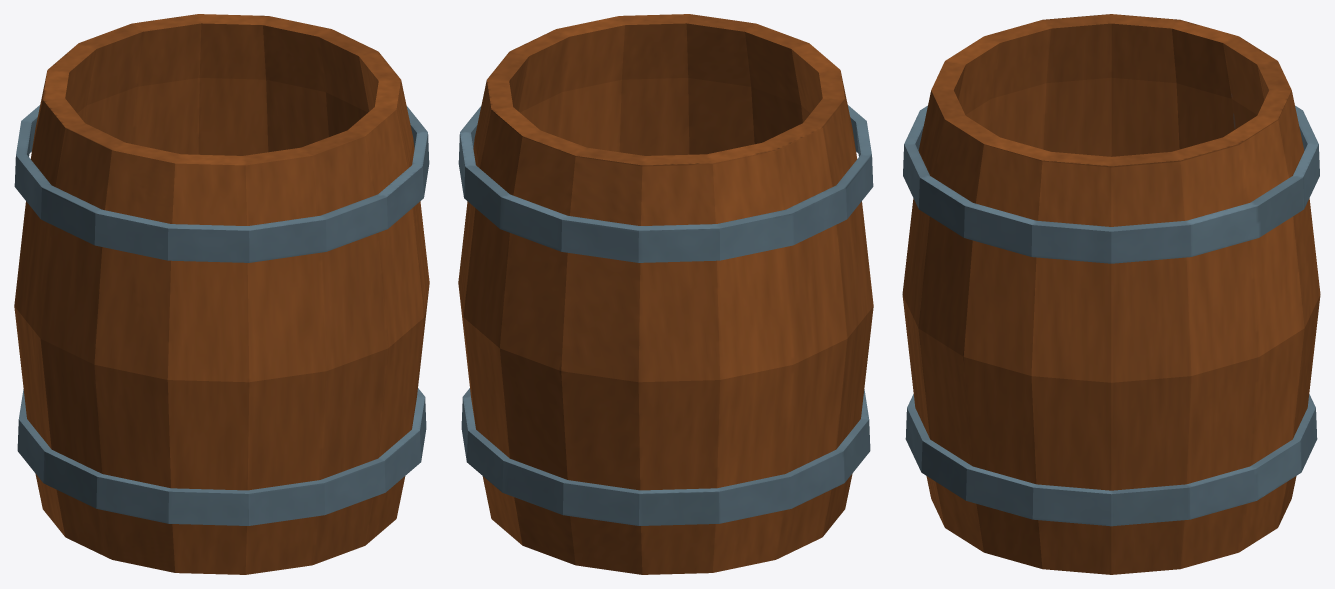
The model's file is TX_D07_Barrel_Open.fbx.
The picture shows the model from 3 angles, left to right: view 1: azimuth 30°, elevation 25°; view 2: azimuth 150°, elevation 25°; view 3: azimuth 270°, elevation 25°; orthographic projection.
Visible parts, largest first — view 1: TX_D07_Barrel_Open; view 2: TX_D07_Barrel_Open; view 3: TX_D07_Barrel_Open.
Part boxes in pixels (x1,y1,x2,y2): TX_D07_Barrel_Open: (14,14,429,574); TX_D07_Barrel_Open: (458,14,873,574); TX_D07_Barrel_Open: (902,14,1320,574).
Bounding box in the file's own units: 1.02 × 1.1 × 1.02.
2 materials, 2 textured.
